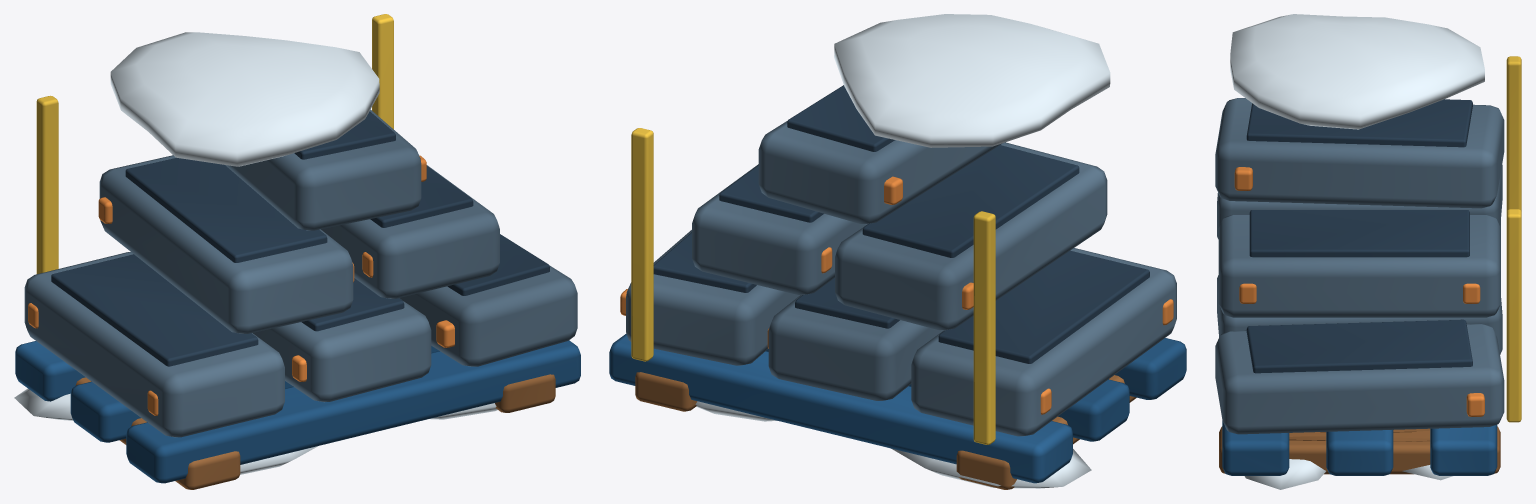
File: metal_stack.glb
3 views of the same model, side by side, from view 1: azimuth 30°, elevation 25°; view 2: azimuth 150°, elevation 25°; view 3: azimuth 270°, elevation 25° (orthographic). The views are drawn at different scales.
Visible parts, largest first — view 1: metal_stack; view 2: metal_stack; view 3: metal_stack.
Part boxes in pixels (x1=…): metal_stack: x1=14, y1=14, x2=580, y2=489; metal_stack: x1=609, y1=14, x2=1186, y2=489; metal_stack: x1=1215, y1=14, x2=1521, y2=489.
Bounding box in the file's own units: 1.49 × 1.12 × 0.9322.
